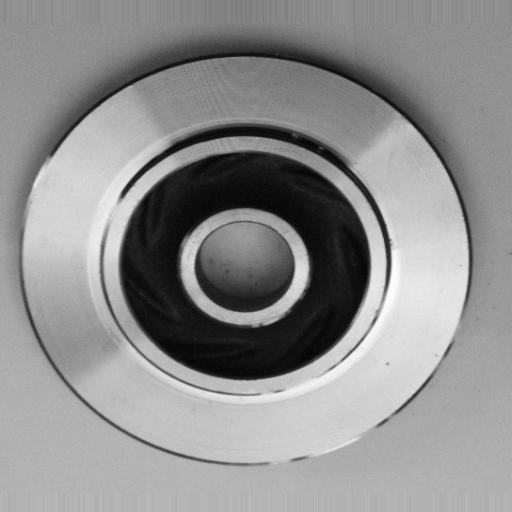scratch: (98, 177, 133, 264), (265, 362, 332, 404)
unpolished_casting: (18, 49, 475, 470)
